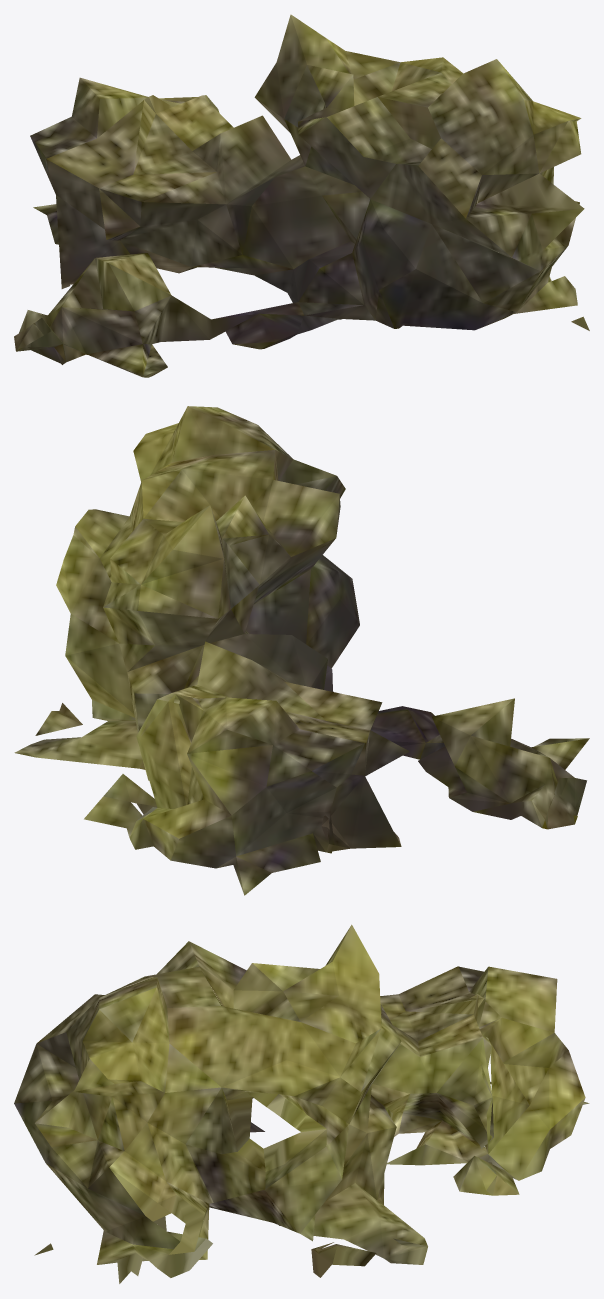
The picture shows the model from 3 angles, top to bottom: view 1: azimuth 30°, elevation 25°; view 2: azimuth 150°, elevation 25°; view 3: azimuth 270°, elevation 25°; orthographic projection. The views are drawn at different scales.
Visible parts, largest first — view 1: Mesh_0; view 2: Mesh_0; view 3: Mesh_0.
Part boxes in pixels (<box>): Mesh_0: <box>14,14,589,377</box>; Mesh_0: <box>14,406,589,895</box>; Mesh_0: <box>14,924,589,1283</box>.
Bounding box in the file's own units: 15.87 × 8.23 × 15.68.
Materials: 1 (1 with a texture image).
